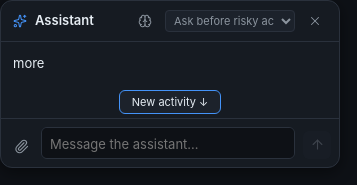
Test: AssistantPane › following the tail › jumps to the bottom from the pill and hides it
(page scrolled)
Click the button "New activity ↓": (170, 102) left=119, top=90, right=221, bottom=114
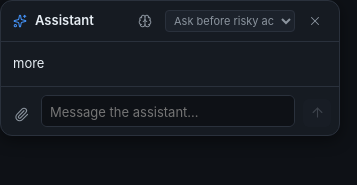
expect the button "New activity ↓" is gone: met
